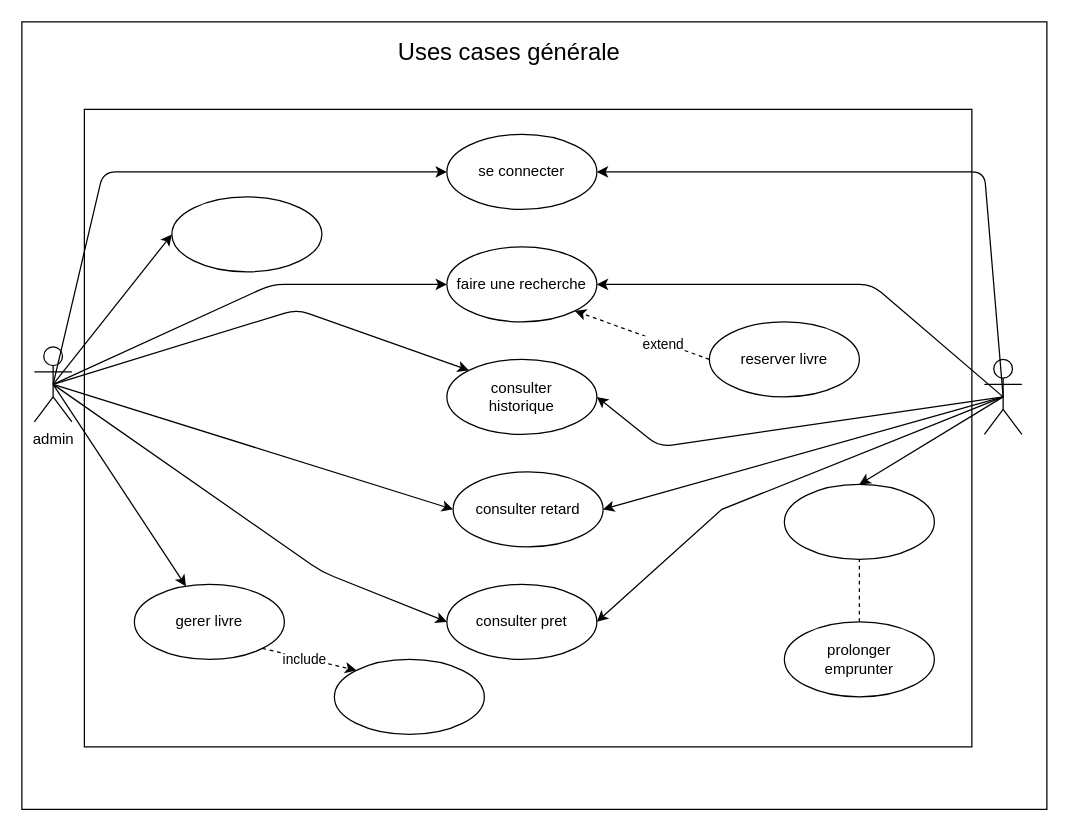
Image size: 1069x831. Some labels were removed from this diagram. Here are the shapes that lost their labels. From the top down, the centre of each, then its label:
point (246, 234): gerer user
point (1002, 396): User
point (858, 521): emprunter livre
point (408, 696): gerer auteur
